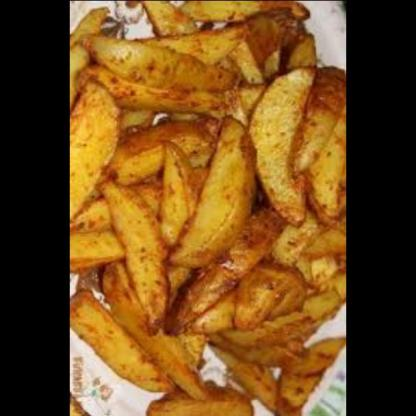potato: (70, 0, 347, 416)
